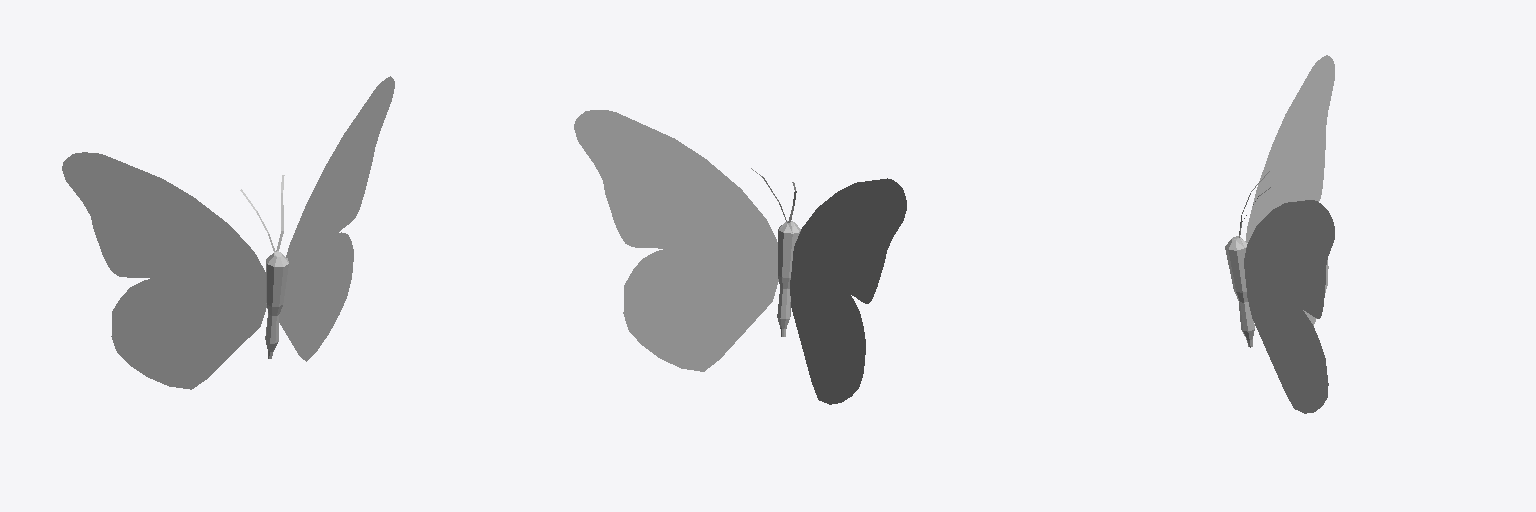
Rendered from butterfly_upright.obj.
3 renders of one model, left to right at view 1: azimuth 30°, elevation 25°; view 2: azimuth 150°, elevation 25°; view 3: azimuth 270°, elevation 25°, orthographic.
Visible parts, largest first — view 1: Butterfly; view 2: Butterfly; view 3: Butterfly.
Boxes of the visible parts, x1,y1,x2,y2 form: Butterfly: [62, 76, 394, 389]; Butterfly: [574, 110, 906, 404]; Butterfly: [1225, 55, 1334, 413].
Size of the model in its own units: 2.2 by 1.58 by 0.6322.